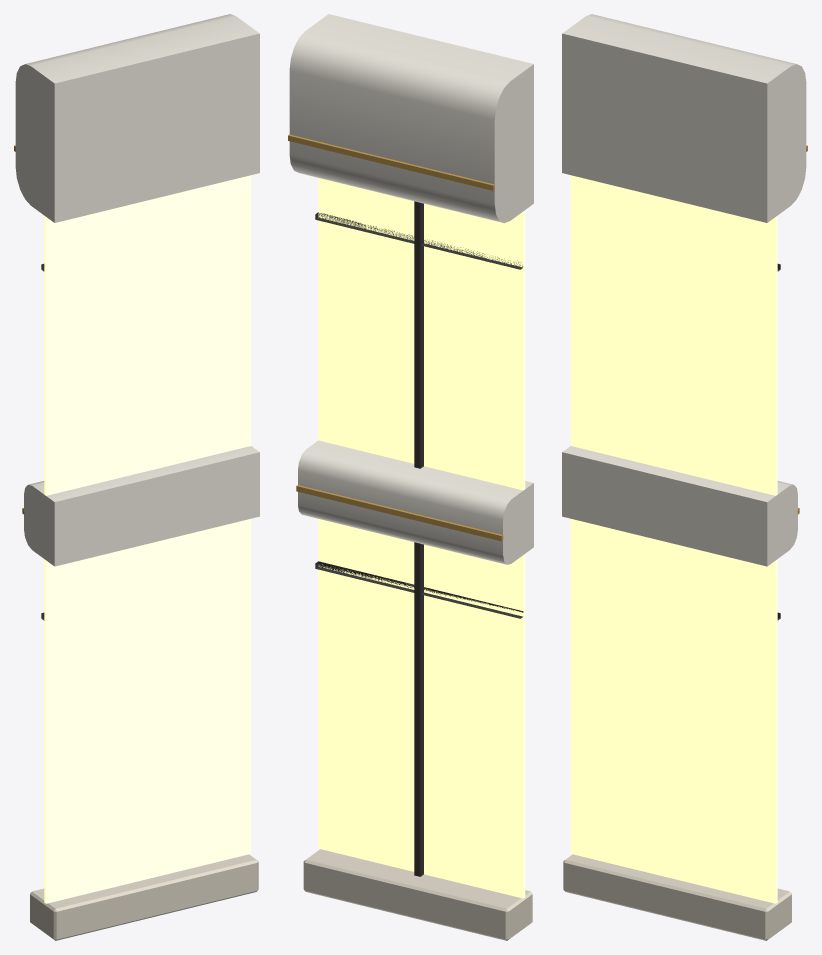
Rendered from lib_wall_arch.glb.
3 views of the same model, side by side, from view 1: azimuth 30°, elevation 25°; view 2: azimuth 150°, elevation 25°; view 3: azimuth 330°, elevation 25° (orthographic).
Visible parts, largest first — view 1: wall; view 2: wall; view 3: wall.
Boxes of the visible parts, <box> form: wall: <box>14,14,259,940</box>; wall: <box>288,14,533,940</box>; wall: <box>562,14,807,940</box>.
Bounding box in the file's own units: 2 × 8 × 0.685.
